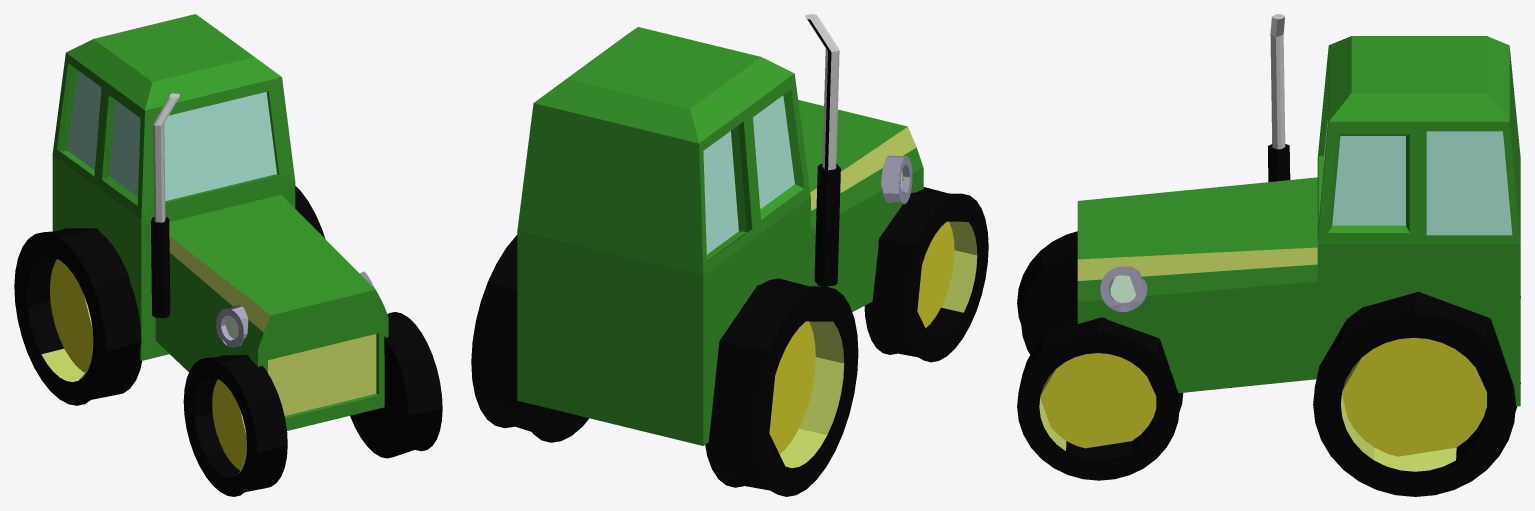
The model's file is tractor.fbx.
3 views of the same model, side by side, from view 1: azimuth 30°, elevation 25°; view 2: azimuth 150°, elevation 25°; view 3: azimuth 270°, elevation 25° (orthographic). The views are drawn at different scales.
Parts seen in each view (by area): view 1: Cube, Cube.001, Cylinder.001; view 2: Cube, Cube.001, Cylinder.001; view 3: Cube, Cube.001, Cylinder.001.
Part boxes in pixels (x1,y1,x2,y2): Cube: (14,14,442,496); Cube.001: (151,93,179,317); Cylinder.001: (216,271,374,347); Cube: (471,27,988,496); Cube.001: (805,14,840,286); Cylinder.001: (881,155,912,204); Cube: (1017,36,1520,496); Cube.001: (1268,14,1290,181); Cylinder.001: (1100,266,1147,311).
Size of the model in its own units: 305 by 415 by 496.
